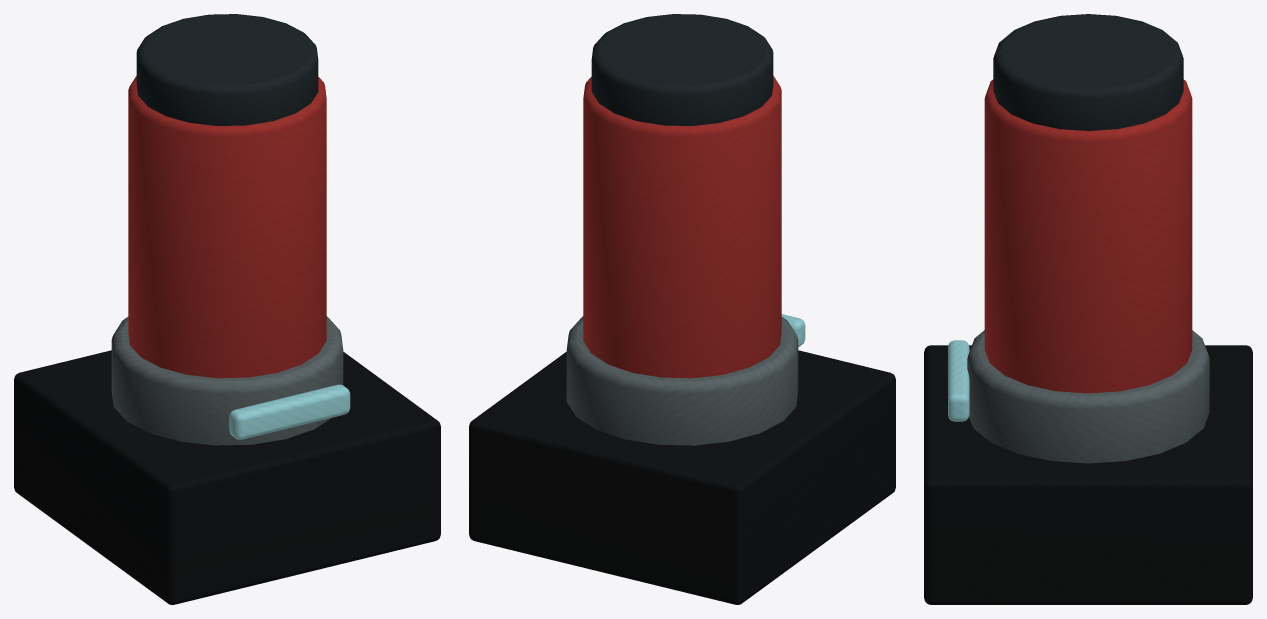
Rendered from WarningBeacon.glb.
3 views of the same model, side by side, from view 1: azimuth 30°, elevation 25°; view 2: azimuth 150°, elevation 25°; view 3: azimuth 270°, elevation 25° (orthographic). The views are drawn at different scales.
Parts seen in each view (by area): view 1: WarningBeacon_Mesh; view 2: WarningBeacon_Mesh; view 3: WarningBeacon_Mesh.
Part boxes in pixels (x1,y1,x2,y2): WarningBeacon_Mesh: [14, 14, 440, 604]; WarningBeacon_Mesh: [469, 14, 895, 604]; WarningBeacon_Mesh: [924, 14, 1252, 604].
Size of the model in its own units: 0.38 by 0.62 by 0.38.
5 materials, 5 textured.
